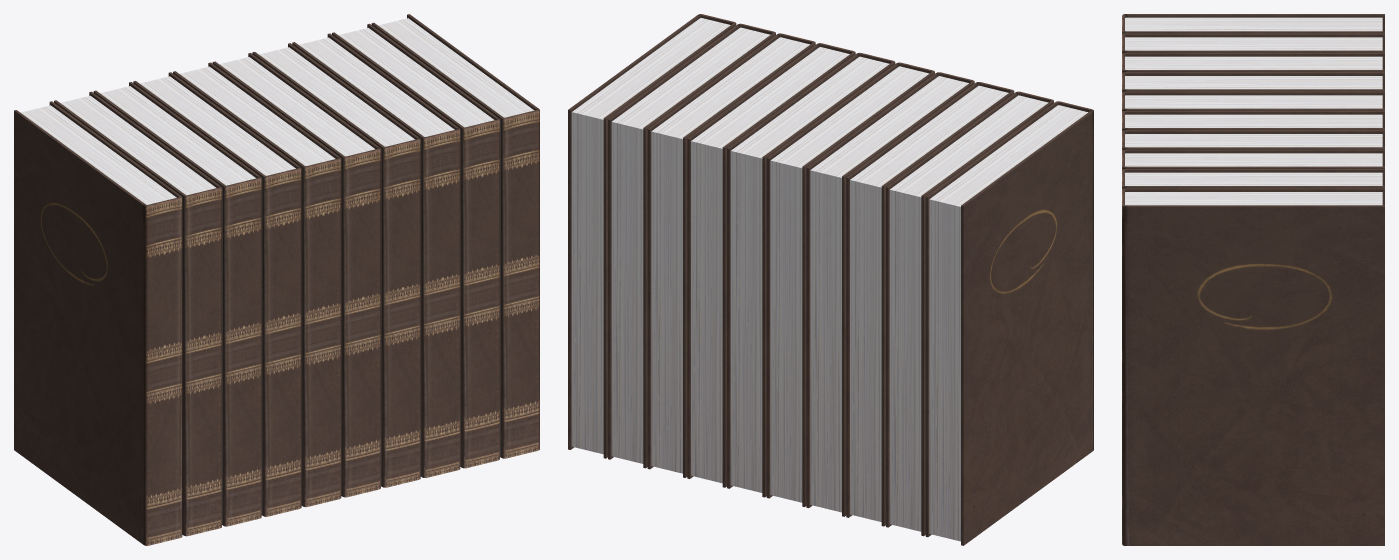
The model's file is RetroBooks01_2_10x.FBX.
The picture shows the model from 3 angles, left to right: view 1: azimuth 30°, elevation 25°; view 2: azimuth 150°, elevation 25°; view 3: azimuth 270°, elevation 25°; orthographic projection.
Visible parts, largest first — view 1: RetroBooks01_2_10x; view 2: RetroBooks01_2_10x; view 3: RetroBooks01_2_10x.
Part boxes in pixels (x1,y1,x2,y2): RetroBooks01_2_10x: (14,14,539,545); RetroBooks01_2_10x: (568,14,1093,545); RetroBooks01_2_10x: (1122,14,1384,545).
Bounding box in the file's own units: 2.75 × 2.26 × 1.59.
